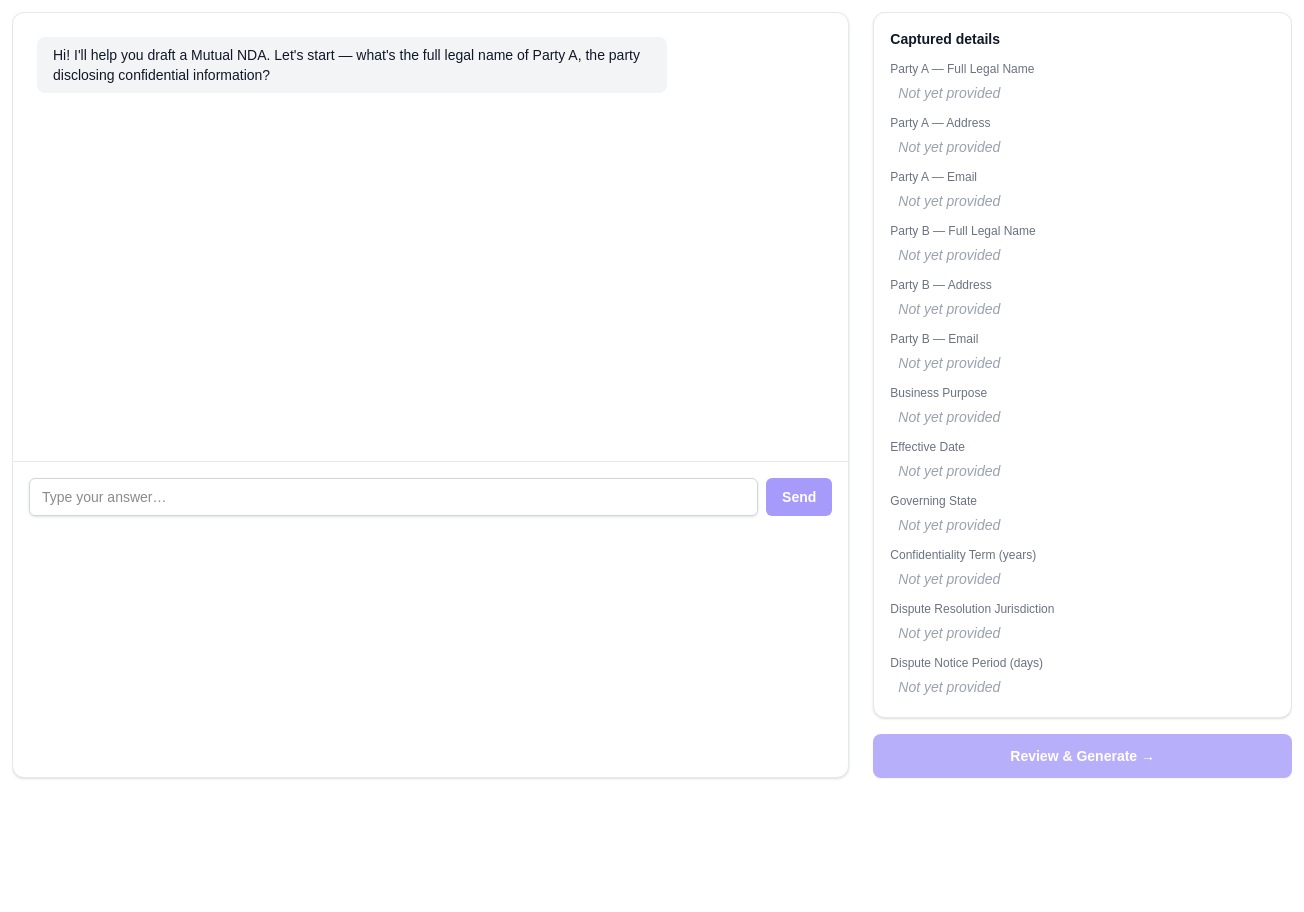
Scenario: NdaCreator › transitions to preview once the chat has captured all fields and Review & Generate is clicked
This screenshot has width=1304, height=912.
Type "Here are all the details." into the field named "Message" at (394, 497), box 29,478 -> 758,516
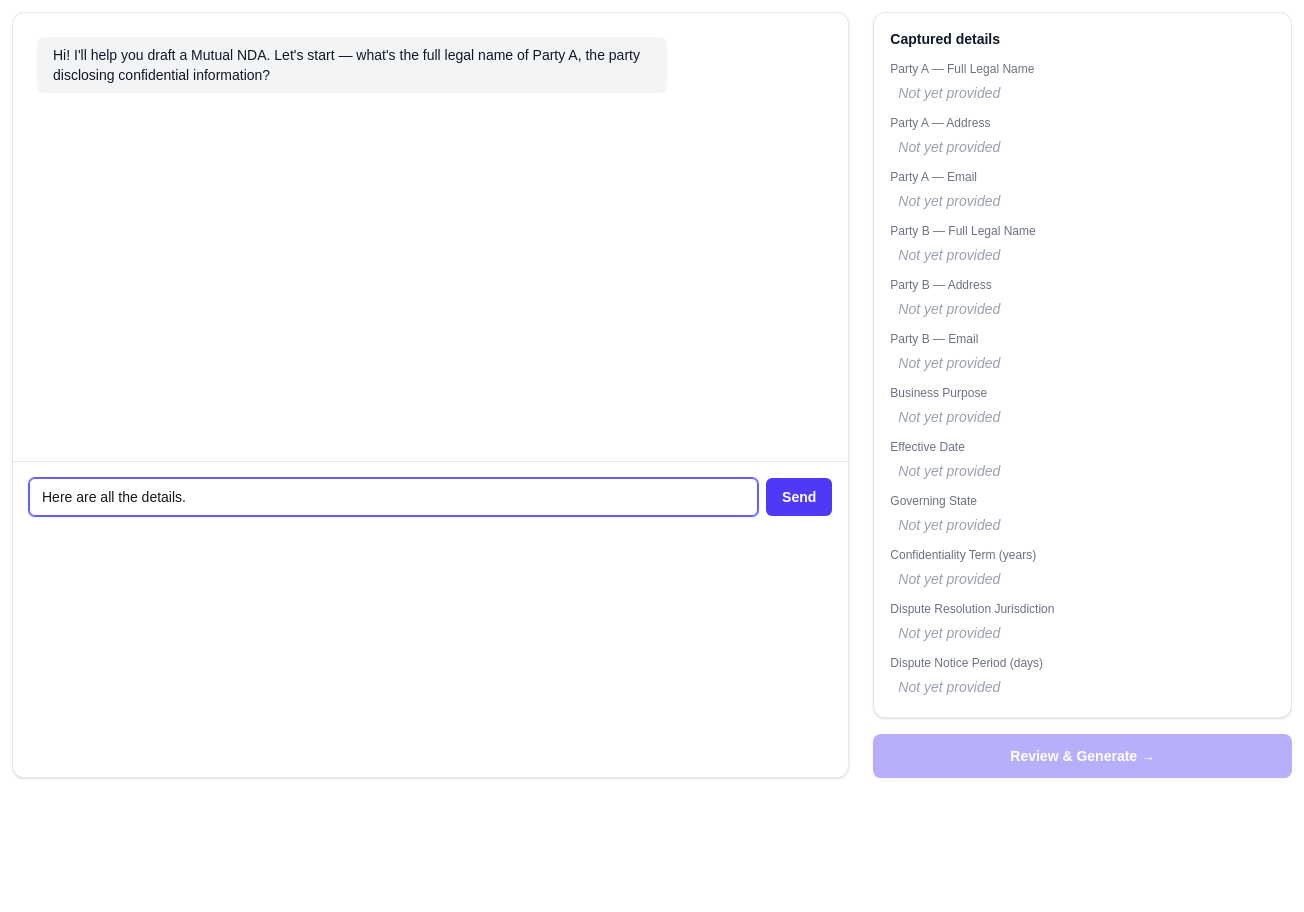
Click the button "Send" at (799, 497), box 766,478 -> 832,516
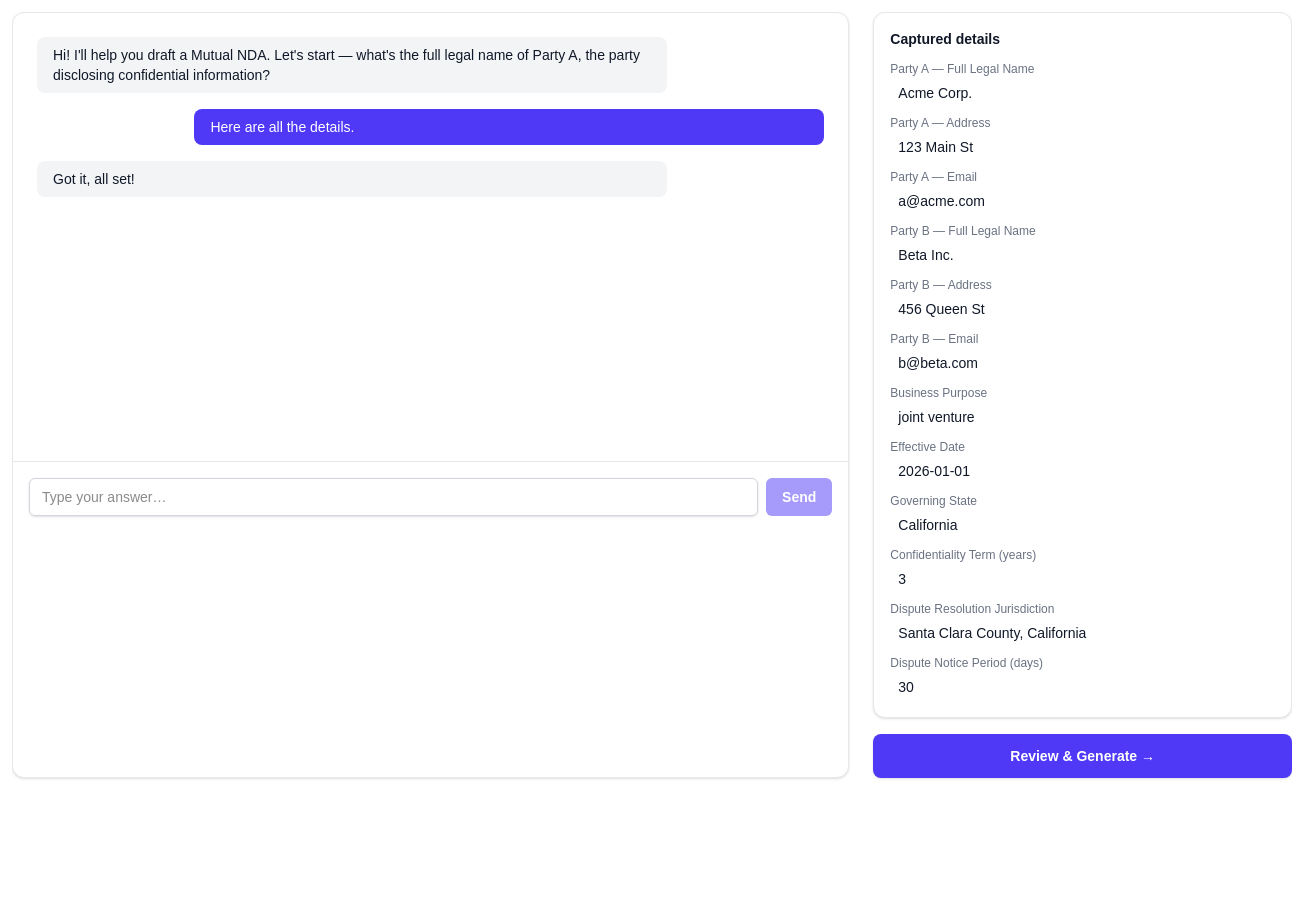
Expected: the button "Review & Generate →" is enabled
Click the button "Review & Generate →" at (1083, 756), box 873,734 -> 1292,778
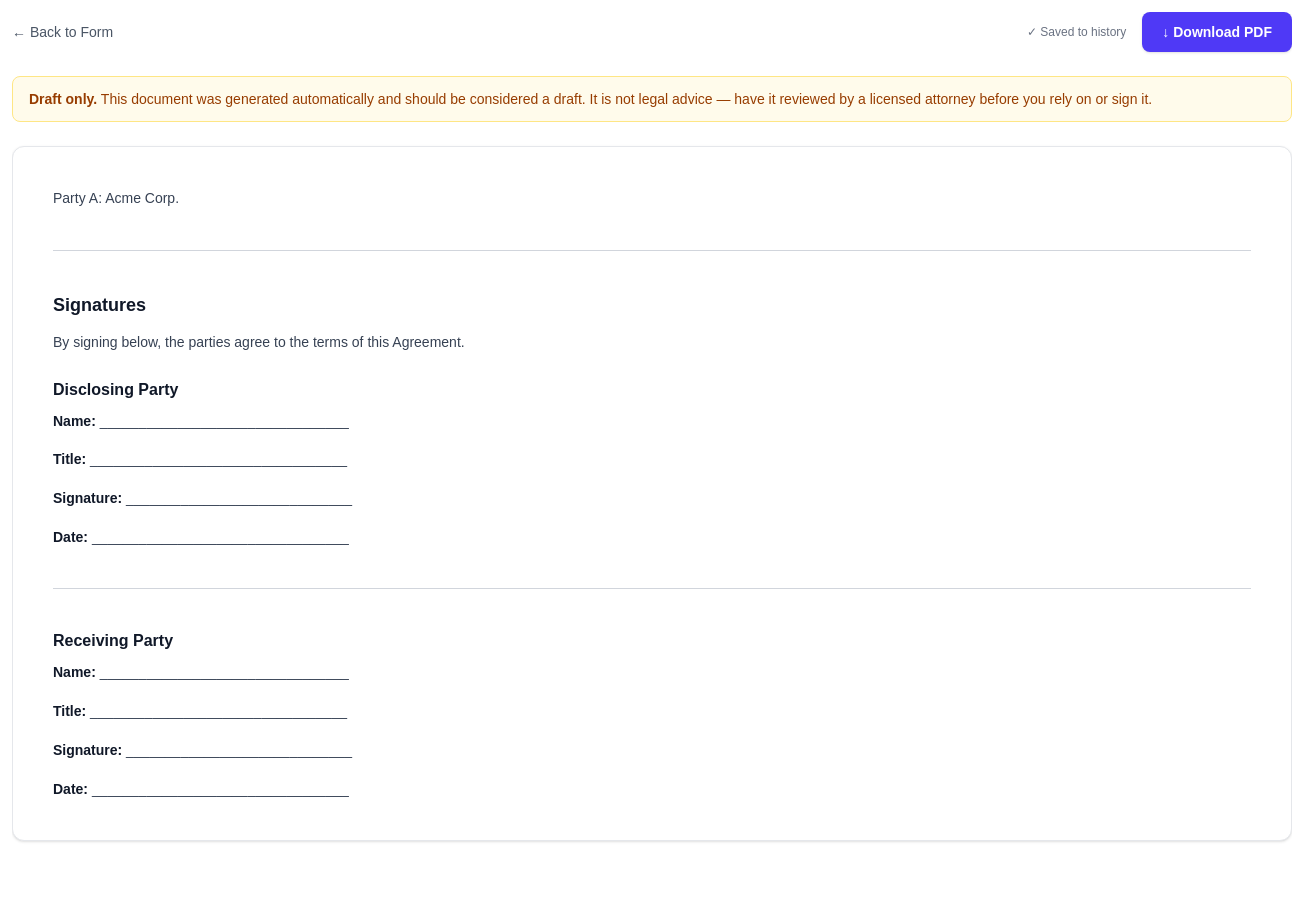
Expected: the button "← Back to Form" is shown, 12,22 -> 113,42
